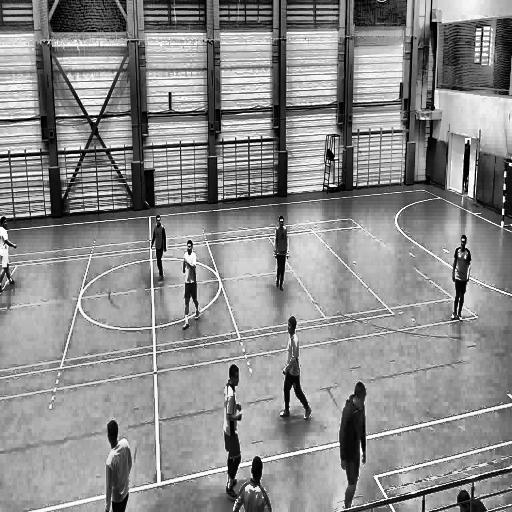player: (338, 379, 368, 512), (279, 314, 312, 424), (103, 414, 134, 512), (222, 362, 243, 502), (452, 232, 472, 324), (182, 238, 200, 332), (0, 214, 19, 294), (149, 212, 168, 283), (272, 215, 288, 295)
